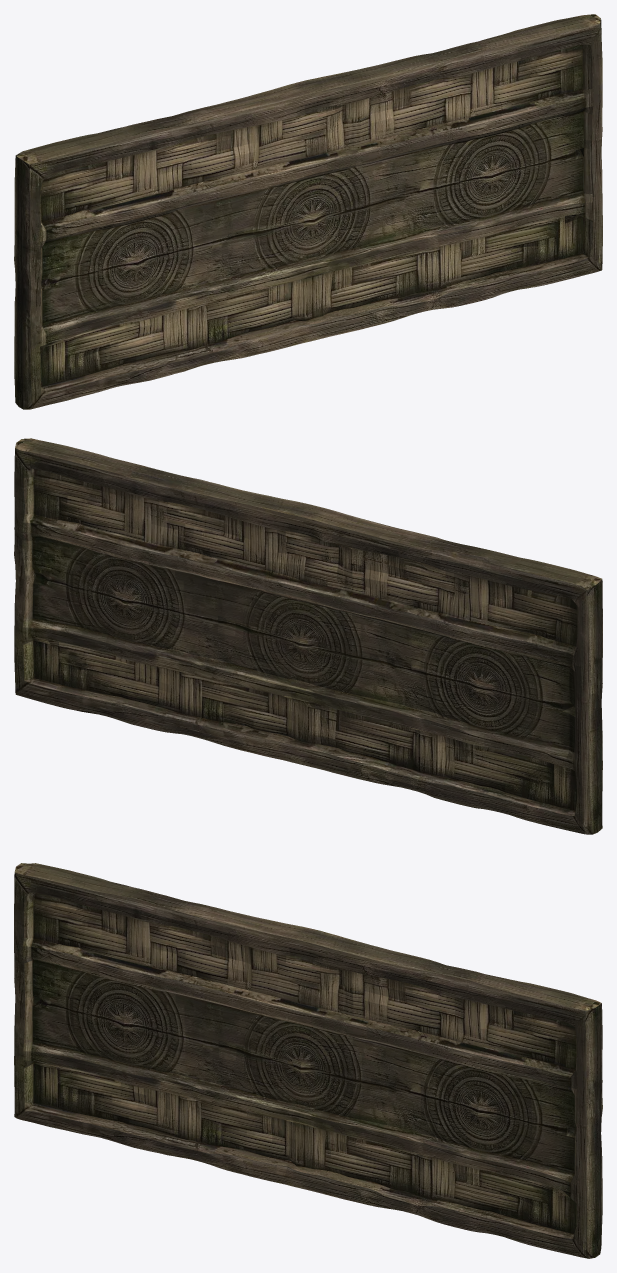
File: woodyboard.glb
3 renders of one model, top to bottom at view 1: azimuth 30°, elevation 25°; view 2: azimuth 150°, elevation 25°; view 3: azimuth 330°, elevation 25°, orthographic.
Bounding box in the file's own units: 1.91 × 0.7946 × 0.0903.
Materials: 1 (1 with a texture image).
